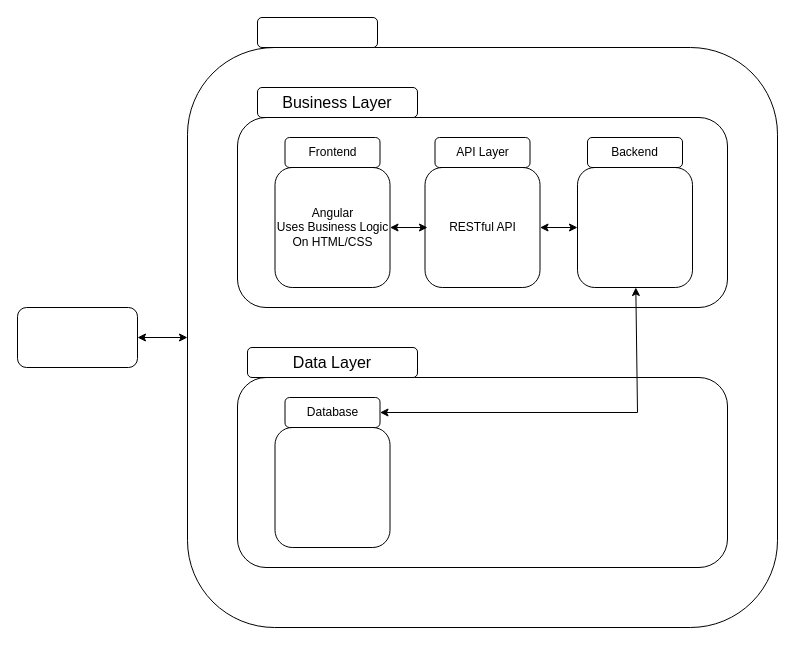
The diagram is 795 pixels wide and 645 high, and some of its shapes have lost their labels. The shapes that lost their labels are listed below. From the top down, each one's centre as x and y in pixels, then its label:
At (317,32): "Application".
At (634,227): "Spring boot Business Logic".
At (77,337): "User Consumes frontend on browser".
At (332,487): "MySQL".
